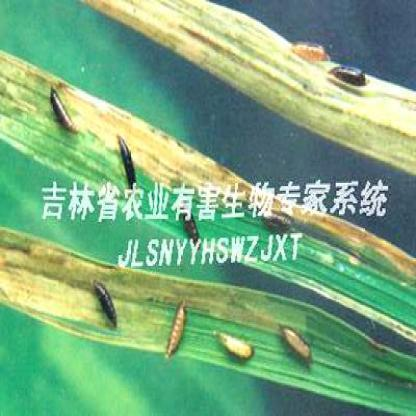whorl-maggot: (163, 294, 192, 365), (274, 318, 316, 364), (46, 84, 78, 138), (212, 324, 254, 365), (328, 51, 370, 92), (92, 277, 118, 332), (292, 32, 328, 67), (113, 132, 138, 182)
